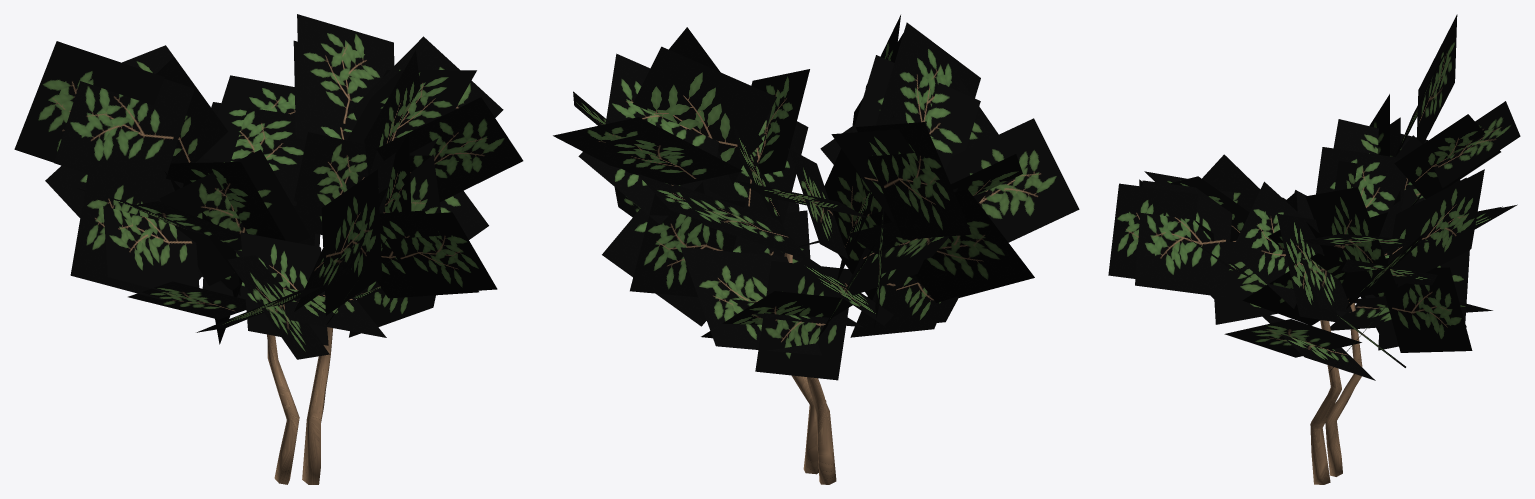
File: Arbousier_V10_1_LOD2.fbx
3 renders of one model, left to right at view 1: azimuth 30°, elevation 25°; view 2: azimuth 150°, elevation 25°; view 3: azimuth 270°, elevation 25°, orthographic. The views are drawn at different scales.
Parts seen in each view (by area): view 1: Arbousier_V10_1_LOD2; view 2: Arbousier_V10_1_LOD2; view 3: Arbousier_V10_1_LOD2.
Boxes of the visible parts, x1,y1,x2,y2 form: Arbousier_V10_1_LOD2: (14,14,523,484); Arbousier_V10_1_LOD2: (553,15,1079,484); Arbousier_V10_1_LOD2: (1108,14,1520,484).
Size of the model in its own units: 180 by 171 by 163.
